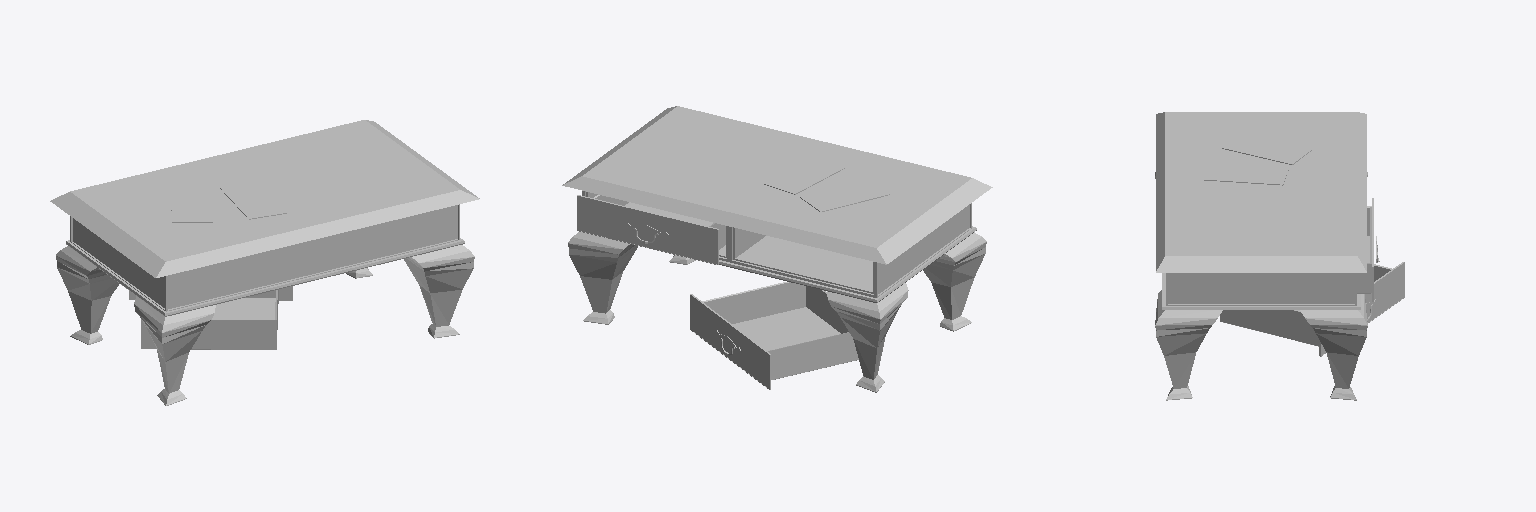
File: Hall_Table01.obj
3 views of the same model, side by side, from view 1: azimuth 30°, elevation 25°; view 2: azimuth 150°, elevation 25°; view 3: azimuth 270°, elevation 25° (orthographic).
Parts seen in each view (by area): view 1: Mesh_Hall_Table_Drawer_a02; view 2: Mesh_Hall_Table_Drawer_a02; view 3: Mesh_Hall_Table_Drawer_a02.
Part boxes in pixels (x1,y1,x2,y2): Mesh_Hall_Table_Drawer_a02: (50, 120, 479, 405); Mesh_Hall_Table_Drawer_a02: (562, 106, 992, 392); Mesh_Hall_Table_Drawer_a02: (1155, 112, 1404, 400).
Bounding box in the file's own units: 2.79 × 1.2 × 1.86.